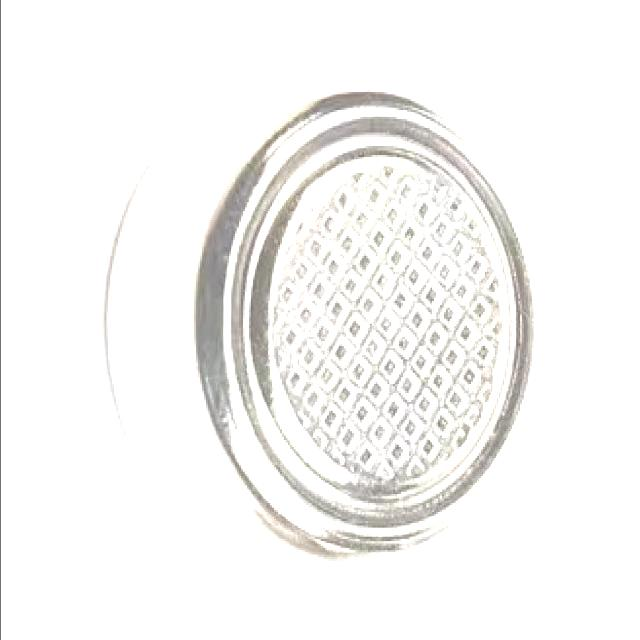COIN: (104, 72, 548, 575)
